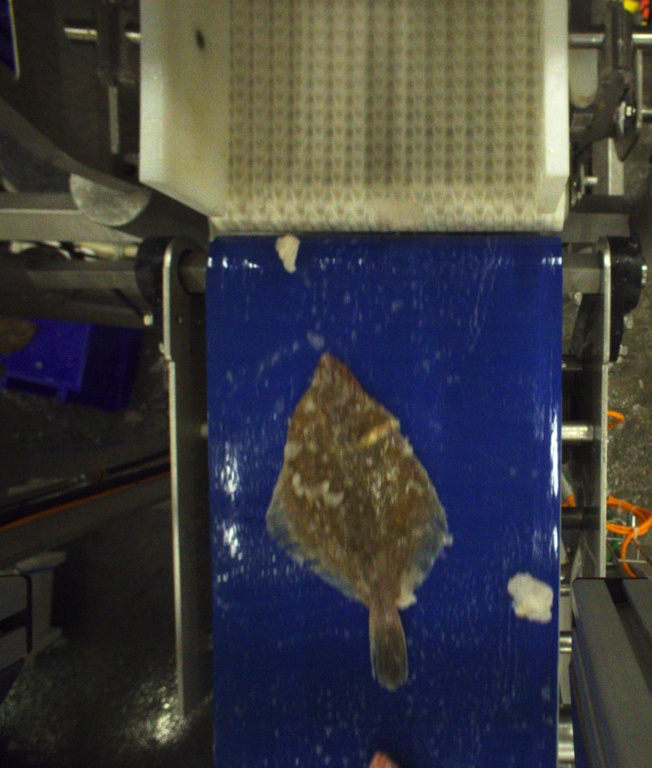PLE: (264, 352, 447, 689)
